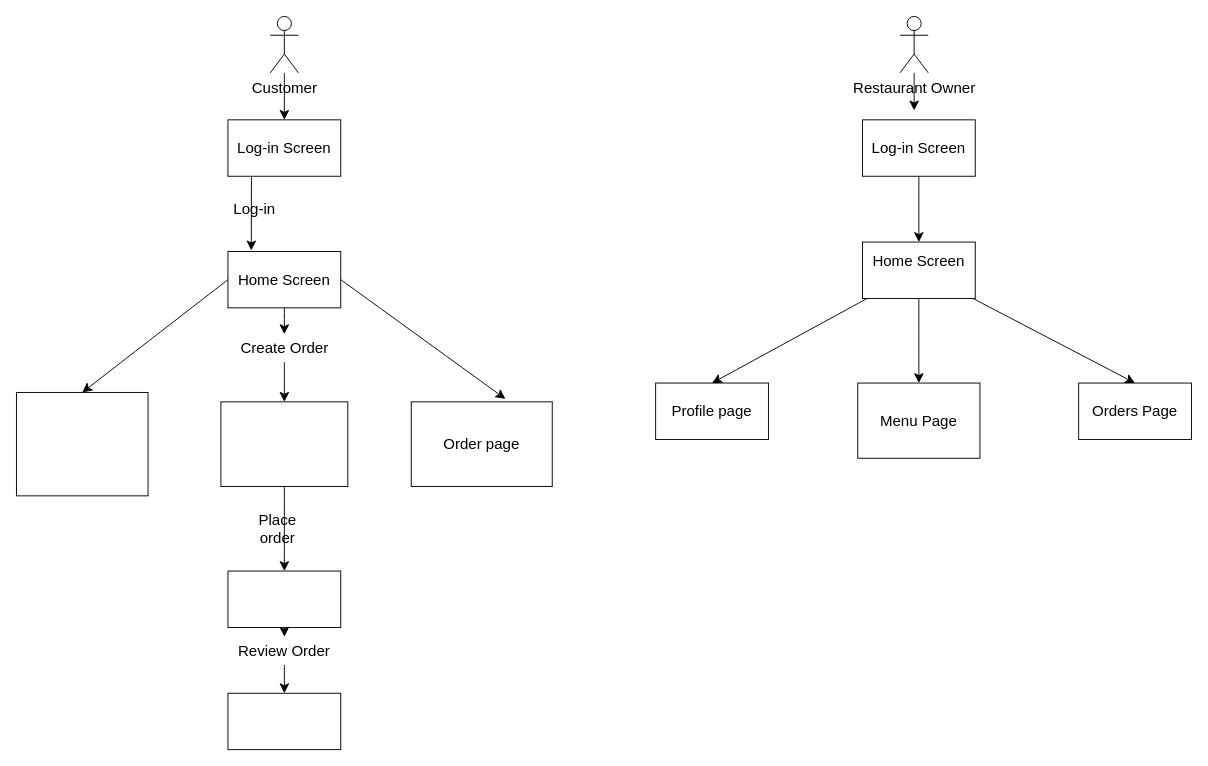
This 1208x766 diagram has some shape labels left out. The centre of each missing label's shape, as x and y in pixels:
"Menu page (can add into cart and leave reviews here)" goes at point (284, 443).
"Order Confirmation Page" goes at point (284, 598).
"Profile page (can add user details like address, payment details, etc." goes at point (82, 444).
"Review Page" goes at point (284, 721).
